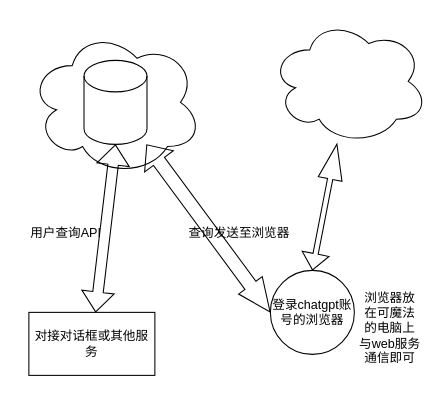
The diagram is 446 pixels wide and 394 high, and some of its shapes have lost their labels. The shapes that lost their labels are listed below. From the top down, each one's centre as x and y in pixels, then its label:
At point 348,80: "ChatGPT服务器".
At point 115,101: "web服务".
